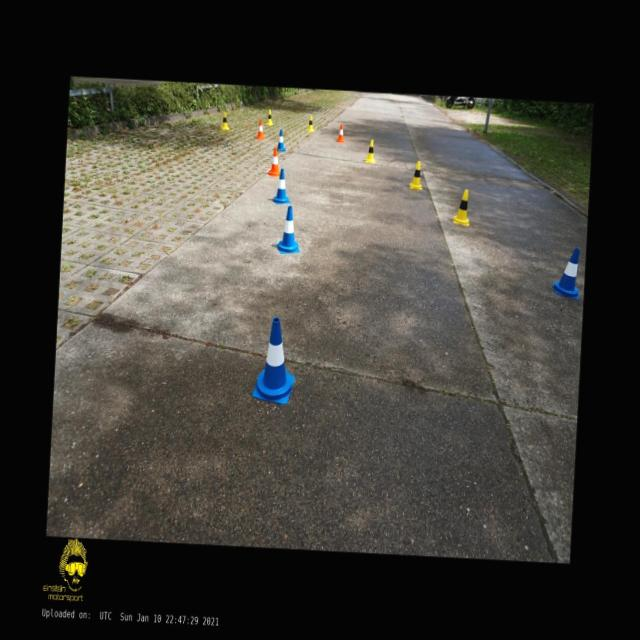blue_cone: (252, 316, 298, 404), (552, 248, 583, 300), (276, 206, 302, 255), (272, 168, 292, 204), (278, 129, 288, 152)
orange_cone: (267, 148, 281, 176), (256, 120, 266, 140), (336, 124, 345, 142)
yellow_cone: (452, 189, 472, 226), (408, 160, 424, 191), (366, 140, 376, 164), (222, 112, 230, 130), (266, 110, 274, 126), (308, 115, 314, 132)
